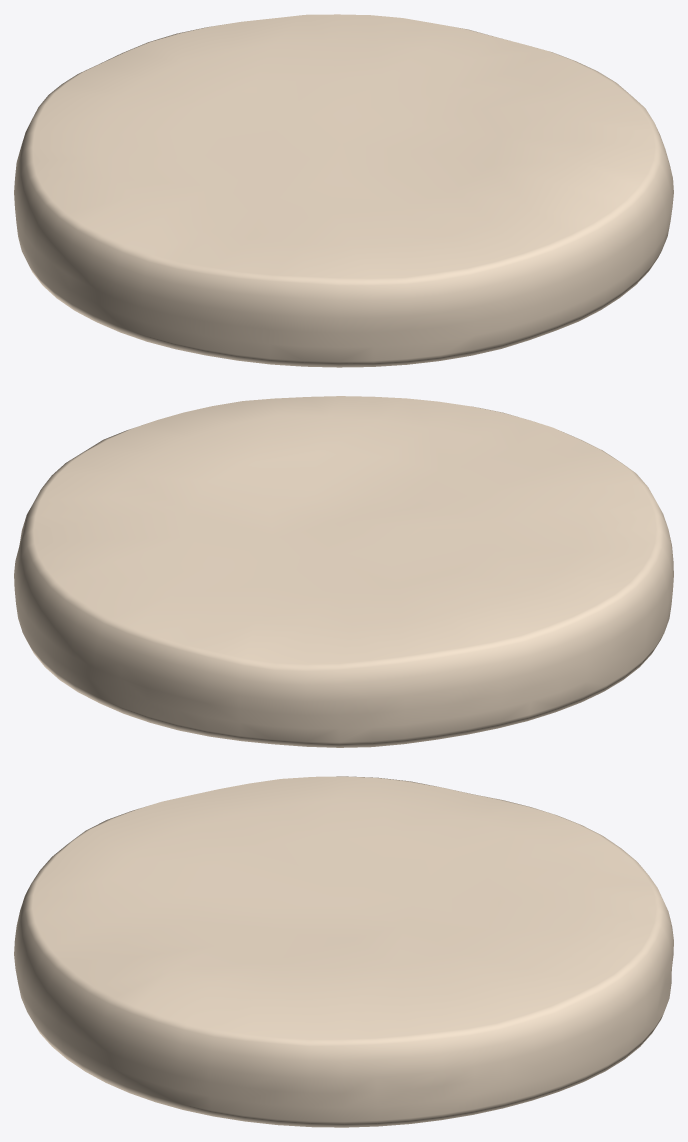
The model's file is SM_Bed_02a.fbx.
3 renders of one model, top to bottom at view 1: azimuth 30°, elevation 25°; view 2: azimuth 150°, elevation 25°; view 3: azimuth 270°, elevation 25°, orthographic.
Visible parts, largest first — view 1: SM_Bed_02a; view 2: SM_Bed_02a; view 3: SM_Bed_02a.
Part boxes in pixels (left/top/right/bottom): SM_Bed_02a: left=14, top=14, right=673, bottom=367; SM_Bed_02a: left=14, top=396, right=673, bottom=747; SM_Bed_02a: left=14, top=776, right=673, bottom=1127.
Size of the model in its own units: 340 by 56.19 by 340.
